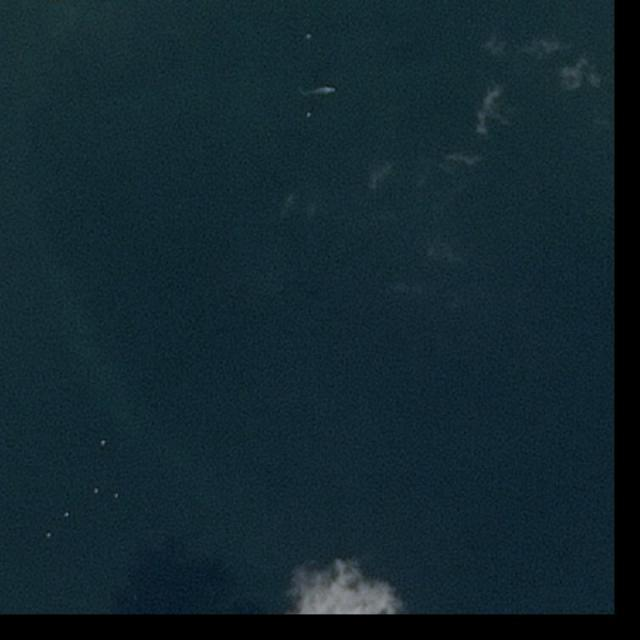ship: (330, 89, 337, 92)
